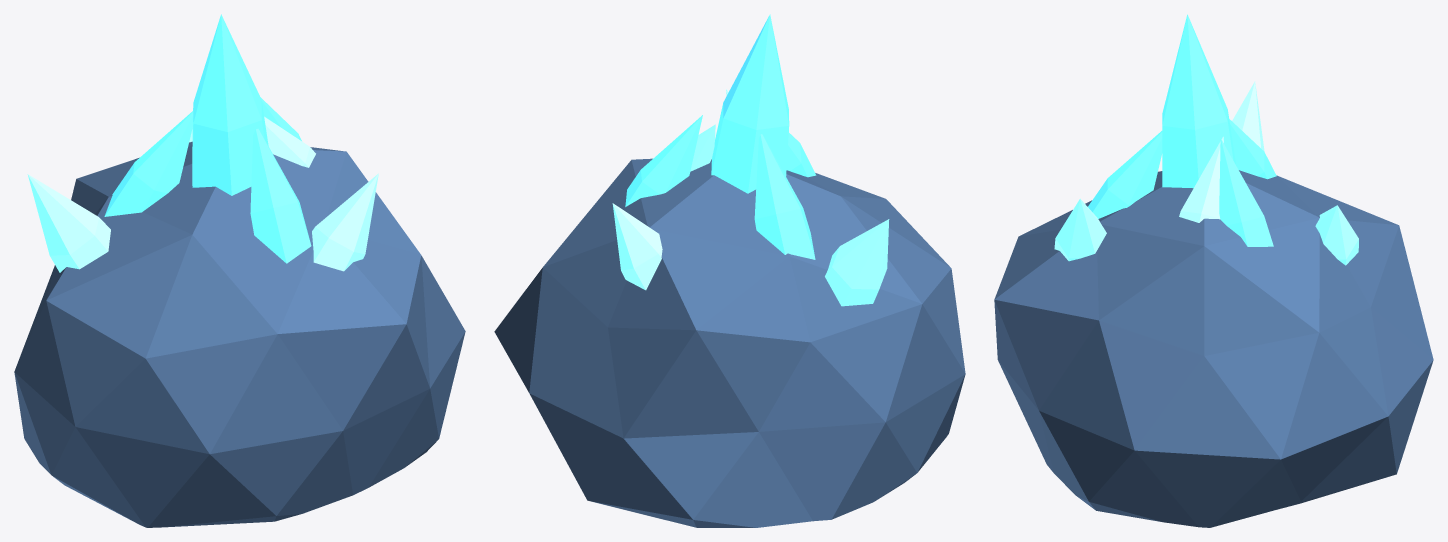
The model's file is Frost.fbx.
3 views of the same model, side by side, from view 1: azimuth 30°, elevation 25°; view 2: azimuth 150°, elevation 25°; view 3: azimuth 270°, elevation 25° (orthographic). The views are drawn at different scales.
Parts seen in each view (by area): view 1: RockBody, TraitCrest, CoreShards; view 2: RockBody, TraitCrest, CoreShards; view 3: RockBody, TraitCrest, CoreShards.
Part boxes in pixels (x1,y1,x2,y2): RockBody: [14, 141, 465, 527]; TraitCrest: [104, 14, 311, 263]; CoreShards: [27, 116, 378, 272]; RockBody: [494, 158, 965, 527]; TraitCrest: [625, 14, 816, 259]; CoreShards: [612, 89, 889, 306]; RockBody: [994, 170, 1433, 527]; TraitCrest: [1088, 14, 1276, 246]; CoreShards: [1054, 81, 1358, 265].
Bounding box in the file's own units: 3.92 × 4.04 × 3.8.
